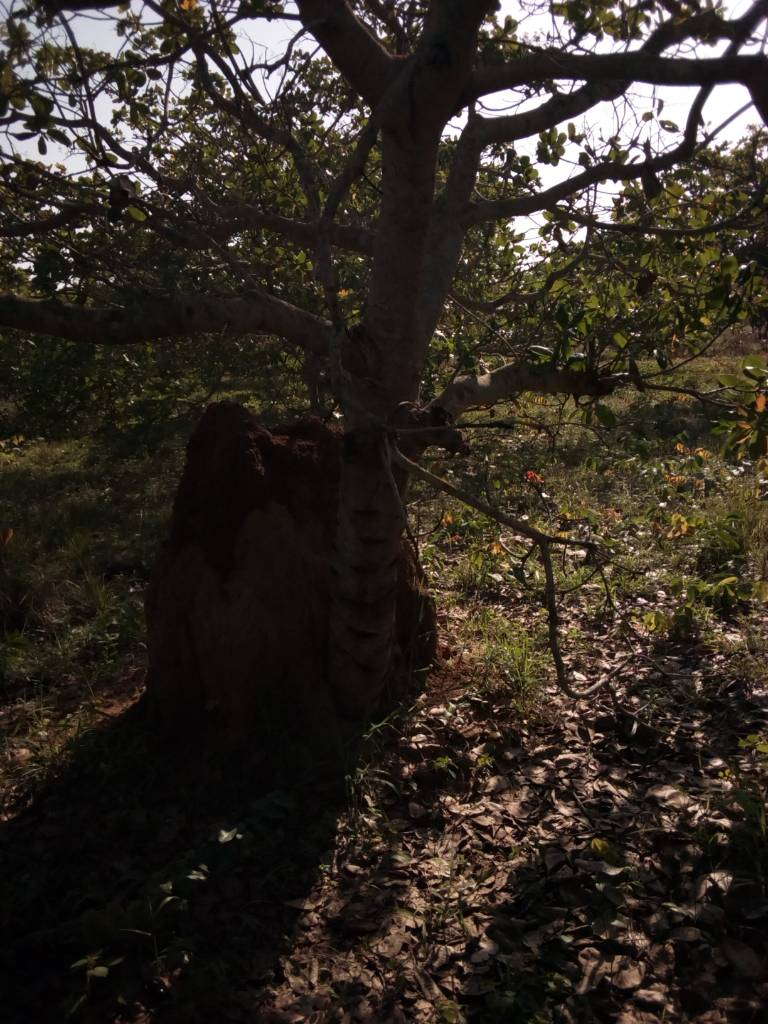Termites: (157, 424, 322, 744)
